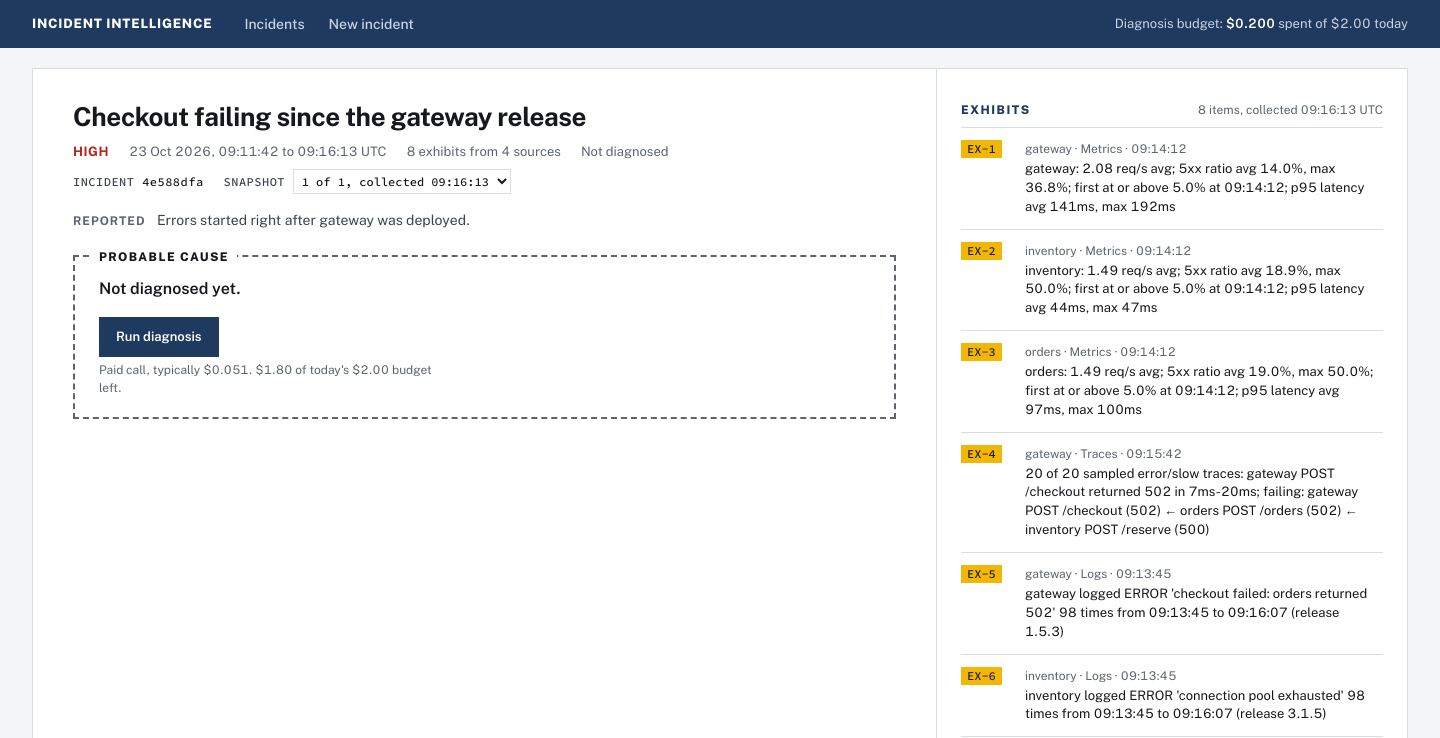
running a diagnosis › explains a refusal from the budget
The width and height of the screenshot is (1440, 738).
Step 1. Click the button "Run diagnosis" → {"x": 159, "y": 337}, box top-left (99, 317), bottom-right (219, 356)
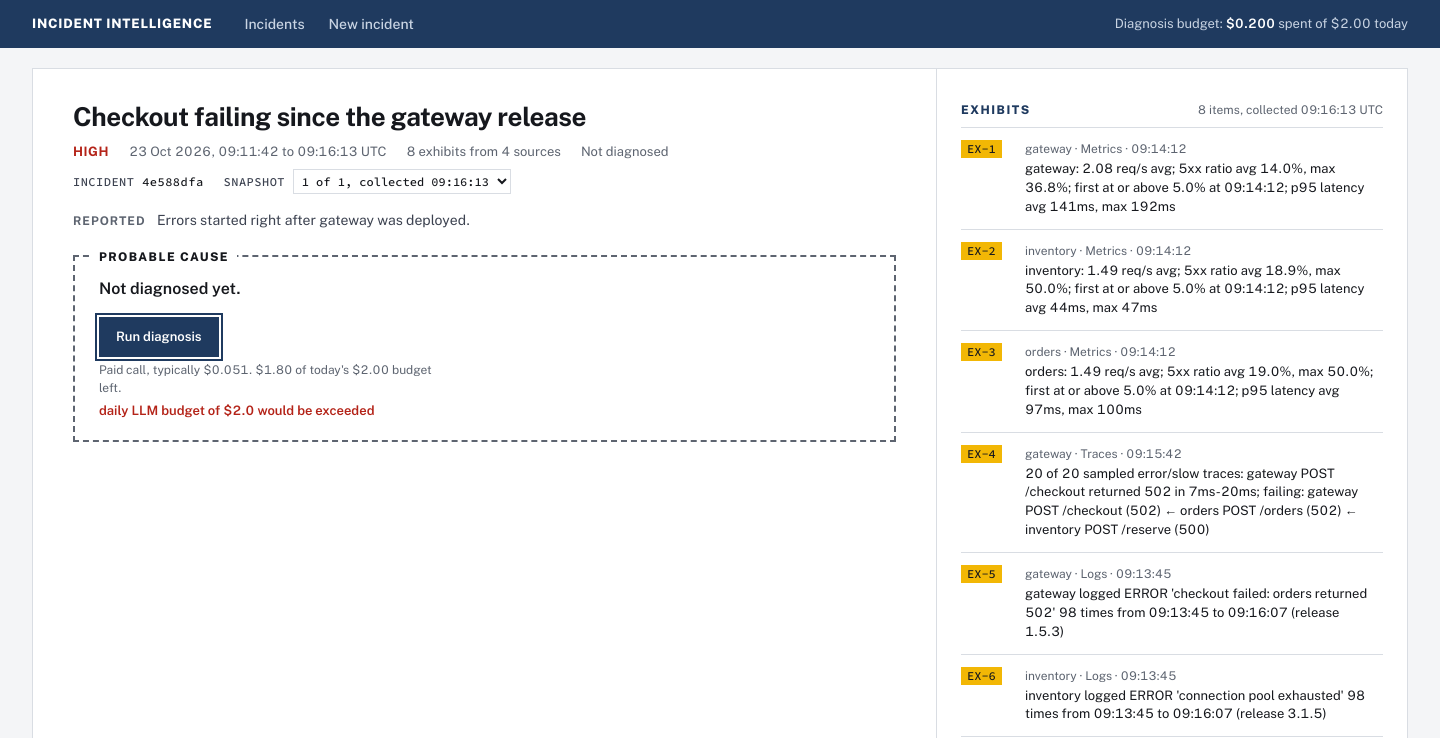
Now the message reads "daily LLM budget of $2.0 would be exceeded", box top-left (99, 402), bottom-right (374, 418)
